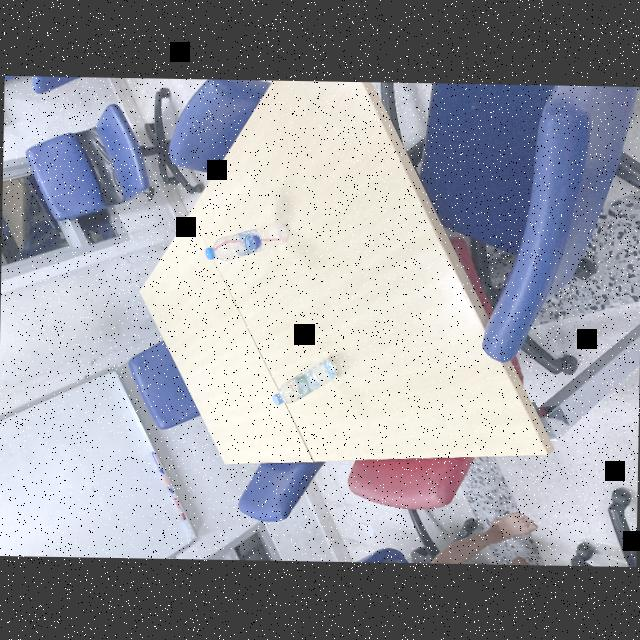plastic_bottle: (268, 355, 342, 408), (204, 218, 290, 261)
plastic_bottle_cap: (271, 389, 282, 404), (203, 244, 214, 258)
straw: (217, 233, 286, 249)
